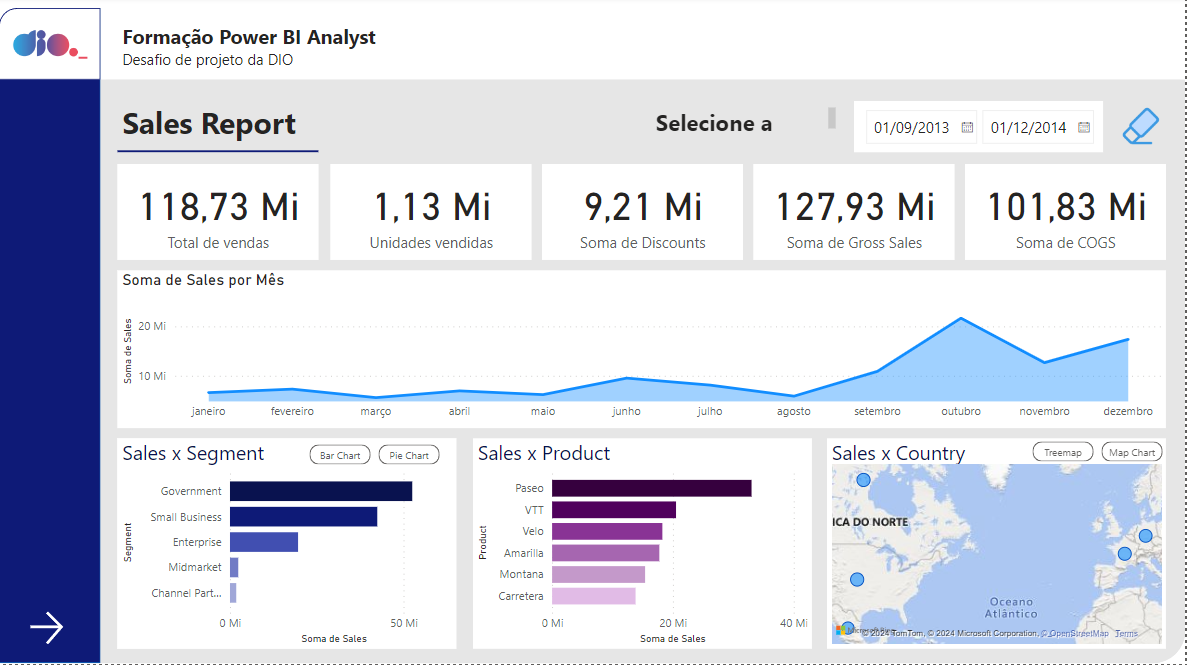

This screenshot's page, from the dashboard's own definition file:
{"tool":"powerbi","page":{"name":"Página 1","canvas":[1280,720],"ordinal":0},"visuals":[{"type":"shape","box":[0,12.9,1279.8,707.1],"z":0},{"type":"shape","box":[127.8,12.9,216.8,309],"z":0,"group":"g5"},{"type":"image","title":"Clean","box":[1203.8,106.8,55,68],"z":0,"group":"g2"},{"type":"shape","box":[127.8,181.2,216.8,103.6],"z":0,"group":"g1"},{"type":"donutChart","title":"Sales x Segment","fields":{"Y":["Sum(financials. Sales)"],"Category":["financials.Segment"]},"box":[127.8,477.3,365.7,226.5],"z":0,"group":"g4"},{"type":"shape","box":[0,13.2,109.6,706.8],"z":1000},{"type":"textbox","box":[127.8,108.4,229.8,59.9],"z":1000,"group":"g5"},{"type":"slicer","fields":{"Values":["financials.Date"]},"box":[922.2,113.3,268.6,55],"z":1000,"group":"g2"},{"type":"shape","box":[357.6,181.2,216.8,103.6],"z":1000,"group":"g1"},{"type":"clusteredBarChart","title":"Sales x Segment","fields":{"Y":["Sum(financials. Sales)"],"Category":["financials.Segment"]},"box":[127.8,477.3,365.7,226.5],"z":1000,"group":"g4"},{"type":"map","title":"Sales x Country","fields":{"Category":["financials.Country"],"Size":["Sum(financials. Sales)"]},"box":[893.1,477.3,365.7,226.5],"z":1500,"group":"g3"},{"type":"actionButton","title":"Botão - Pie","box":[409.4,483.9,65.9,21.6],"z":1500,"group":"g4"},{"type":"actionButton","title":"Botão - Treemap","box":[1114,480.3,65.9,21.6],"z":1750,"group":"g3"},{"type":"shape","box":[0,13.2,109.6,77.5],"z":2000},{"type":"textbox","box":[703.8,114.9,203.9,48.5],"z":2000,"group":"g2"},{"type":"shape","box":[585.7,181.2,216.8,103.6],"z":2000,"group":"g1"},{"type":"actionButton","title":"Botão - Map Chart","box":[1188.4,480.3,65.9,21.6],"z":2000,"group":"g3"},{"type":"actionButton","title":"Botão - Bar","box":[335,483.9,65.9,21.6],"z":2000,"group":"g4"},{"type":"image","title":"Logo_Dio","box":[9.4,5.7,90.7,90.7],"z":3000},{"type":"actionButton","box":[1203.8,114.9,55,53.4],"z":3000,"group":"g2"},{"type":"shape","box":[813.8,181.2,216.8,103.6],"z":3000,"group":"g1"},{"type":"shape","box":[109.6,13.2,1169.8,77.5],"z":4000},{"type":"shape","box":[1042,181.2,216.8,103.6],"z":4000,"group":"g1"},{"type":"textbox","box":[127.8,22.7,1152,68],"z":5000},{"type":"card","fields":{"Values":["Sum(financials. Sales)"]},"box":[127.8,181.2,216.8,103.6],"z":5000,"group":"g1"},{"type":"card","fields":{"Values":["Sum(financials.Units Sold)"]},"box":[357.6,181.2,216.8,103.6],"z":6000,"group":"g1"},{"type":"shape","box":[127.8,296.1,1131,169.9],"z":6000},{"type":"card","fields":{"Values":["Sum(financials.Discounts)"]},"box":[585.7,181.2,216.8,103.6],"z":7000,"group":"g1"},{"type":"shape","title":"Sales x Segment - Bar","box":[127.8,477.3,365.7,226.5],"z":7000},{"type":"card","fields":{"Values":["Sum(financials.Gross Sales)"]},"box":[813.8,181.2,216.8,103.6],"z":8000,"group":"g1"},{"type":"shape","box":[511.3,477.3,365.7,226.5],"z":8000},{"type":"card","fields":{"Values":["Sum(financials.COGS)"]},"box":[1042,181.2,216.8,103.6],"z":9000,"group":"g1"},{"type":"shape","title":"Sales x Country - Maps","box":[893.1,477.3,365.7,226.5],"z":9000},{"type":"areaChart","fields":{"Category":["financials.Date.Variation.Hierarquia de datas.Mês"],"Y":["Sum(financials. Sales)"]},"box":[127.8,296.1,1131,169.9],"z":10000},{"type":"clusteredBarChart","title":"Sales x Product","fields":{"Y":["Sum(financials. Sales)"],"Category":["financials.Product"]},"box":[511.3,477.3,365.7,226.5],"z":11000},{"type":"group","id":"g1","title":"Cartões","box":[127.8,181.2,1131,103.6],"z":12000},{"type":"group","id":"g2","title":"Filtro por data","box":[703.8,106.8,555,68],"z":13000},{"type":"group","id":"g3","title":"Sales x País","box":[893.1,477.3,365.7,226.5],"z":14000},{"type":"group","id":"g4","title":"Sales x Segmento","box":[127.8,477.3,365.7,226.5],"z":15000},{"type":"group","id":"g5","title":"Title Report","box":[127.8,12.9,229.8,309],"z":16000},{"type":"actionButton","box":[27,658.6,48.1,46.2],"z":17000}]}

Visuals, with their boxes on the page's 1280x720 design canvas (x1, y1, x2, y2). These are canvas units, not pixel positions in the 1187x665 screenshot, which may show the page scaled, cropped or inside an application window:
shape: [0, 13, 1280, 720]
shape: [128, 13, 345, 322]
"Clean" image: [1204, 107, 1259, 175]
shape: [128, 181, 345, 285]
"Sales x Segment" donutChart: [128, 477, 494, 704]
shape: [0, 13, 110, 720]
textbox: [128, 108, 358, 168]
slicer - financials.Date: [922, 113, 1191, 168]
shape: [358, 181, 574, 285]
"Sales x Segment" clusteredBarChart: [128, 477, 494, 704]
"Sales x Country" map: [893, 477, 1259, 704]
"Botão - Pie" actionButton: [409, 484, 475, 506]
"Botão - Treemap" actionButton: [1114, 480, 1180, 502]
shape: [0, 13, 110, 91]
textbox: [704, 115, 908, 163]
shape: [586, 181, 802, 285]
"Botão - Map Chart" actionButton: [1188, 480, 1254, 502]
"Botão - Bar" actionButton: [335, 484, 401, 506]
"Logo_Dio" image: [9, 6, 100, 96]
actionButton: [1204, 115, 1259, 168]
shape: [814, 181, 1031, 285]
shape: [110, 13, 1279, 91]
shape: [1042, 181, 1259, 285]
textbox: [128, 23, 1280, 91]
card - Sum(financials. Sales): [128, 181, 345, 285]
card - Sum(financials.Units Sold): [358, 181, 574, 285]
shape: [128, 296, 1259, 466]
card - Sum(financials.Discounts): [586, 181, 802, 285]
"Sales x Segment - Bar" shape: [128, 477, 494, 704]
card - Sum(financials.Gross Sales): [814, 181, 1031, 285]
shape: [511, 477, 877, 704]
card - Sum(financials.COGS): [1042, 181, 1259, 285]
"Sales x Country - Maps" shape: [893, 477, 1259, 704]
areaChart - financials.Date.Variation.Hierarquia de datas.Mês x Sum(financials. Sales): [128, 296, 1259, 466]
"Sales x Product" clusteredBarChart: [511, 477, 877, 704]
"Cartões" group: [128, 181, 1259, 285]
"Filtro por data" group: [704, 107, 1259, 175]
"Sales x País" group: [893, 477, 1259, 704]
"Sales x Segmento" group: [128, 477, 494, 704]
"Title Report" group: [128, 13, 358, 322]
actionButton: [27, 659, 75, 705]
